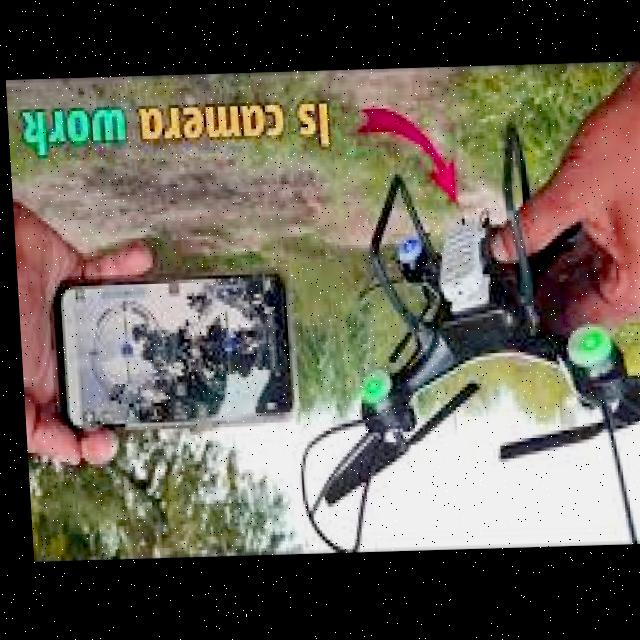drone: (283, 127, 640, 584)
